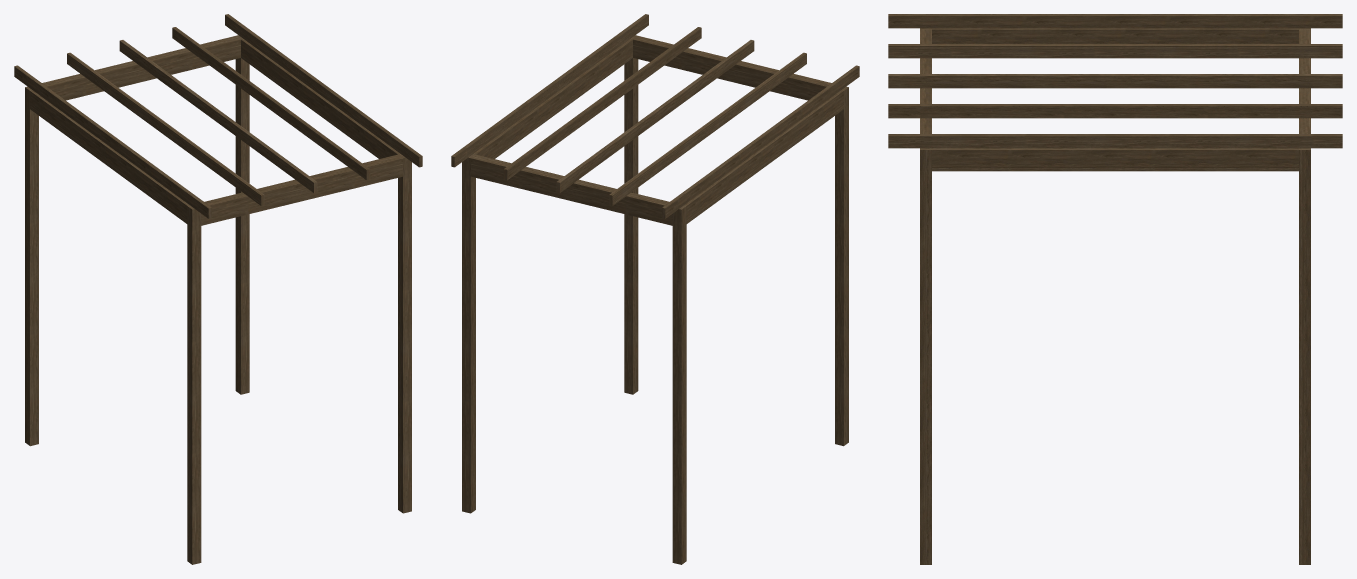
Rendered from pp-dokuritu_1k-8s_brownebony.fbx.
3 views of the same model, side by side, from view 1: azimuth 30°, elevation 25°; view 2: azimuth 150°, elevation 25°; view 3: azimuth 270°, elevation 25° (orthographic). The views are drawn at different scales.
Visible parts, largest first — view 1: pp-dokuritu_1k-8s_brownebony; view 2: pp-dokuritu_1k-8s_brownebony; view 3: pp-dokuritu_1k-8s_brownebony.
Part boxes in pixels (x1,y1,x2,y2): pp-dokuritu_1k-8s_brownebony: (14,14,422,564); pp-dokuritu_1k-8s_brownebony: (451,14,859,564); pp-dokuritu_1k-8s_brownebony: (888,14,1342,564).
Bounding box in the file's own units: 187 × 298 × 287.
1 material, 1 textured.
